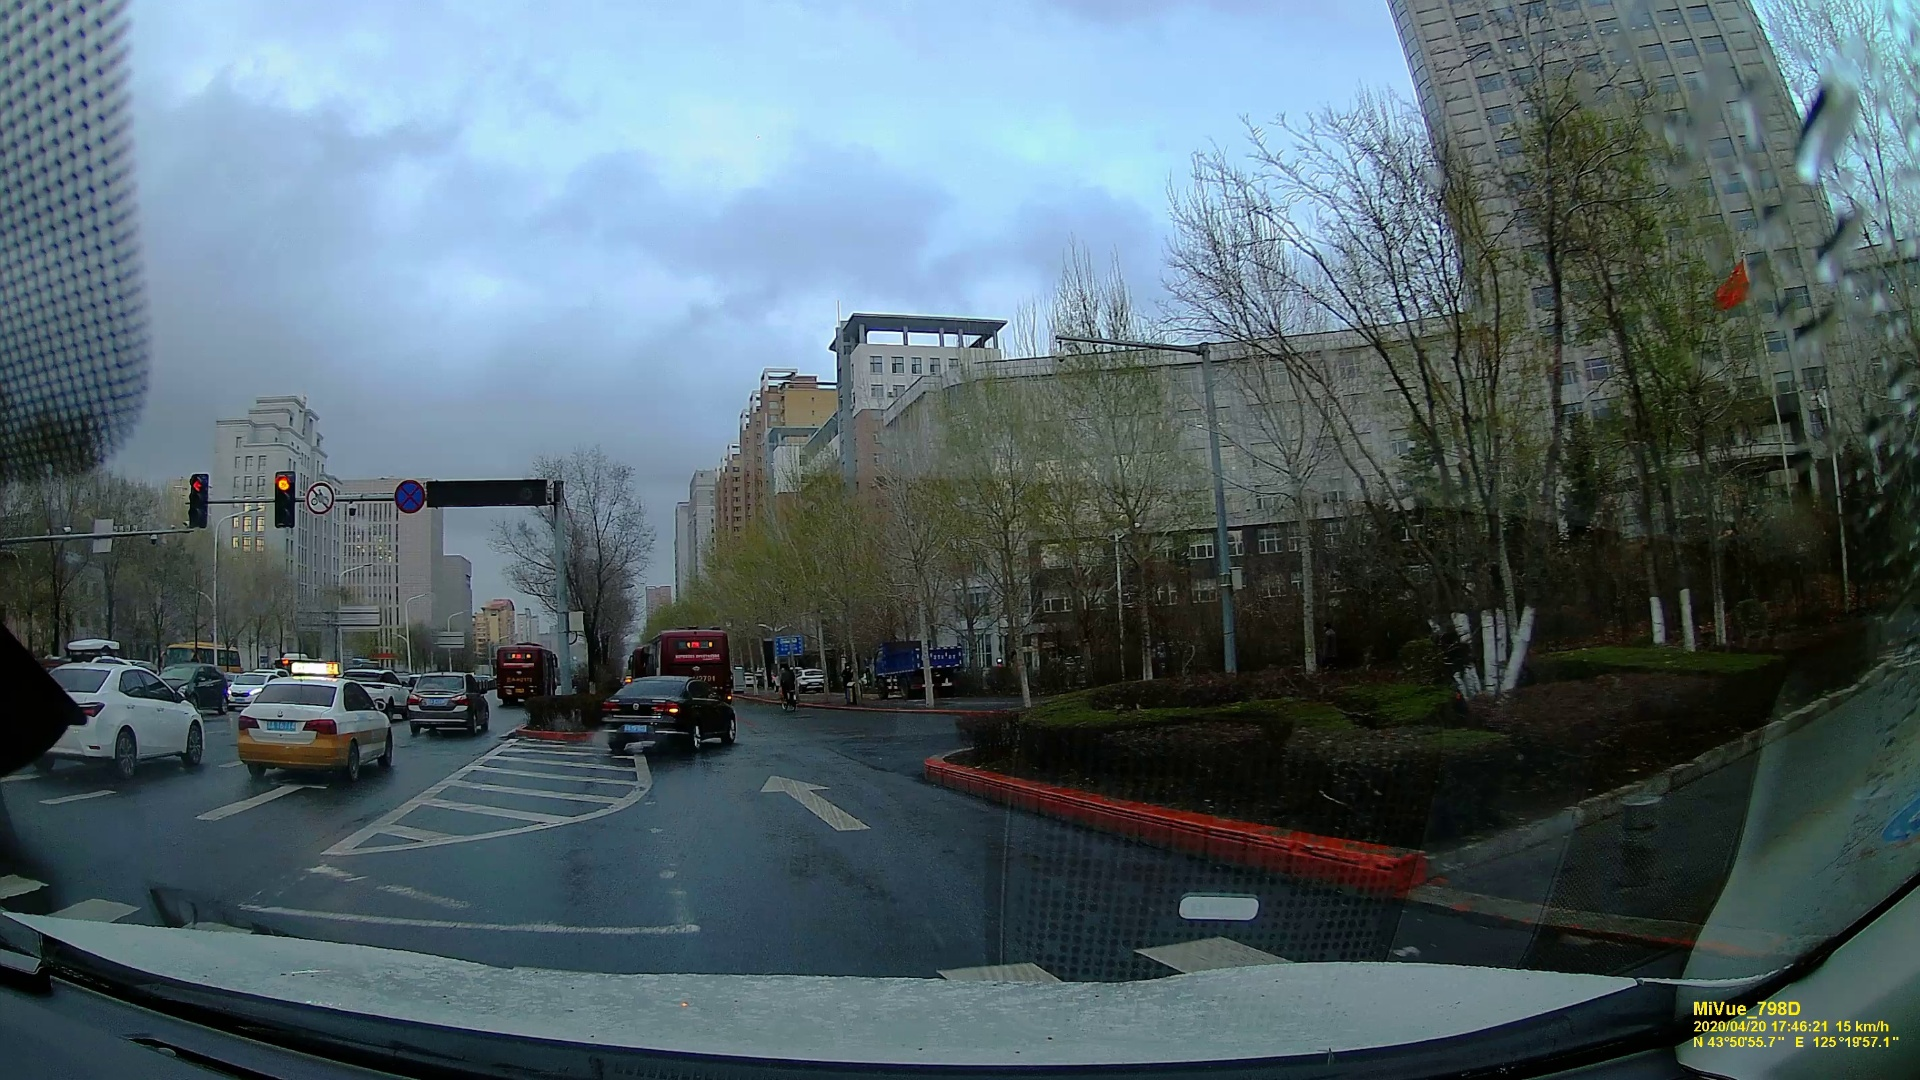bus: (634, 632, 733, 691), (493, 648, 558, 703)
person: (778, 664, 799, 709), (841, 660, 853, 700)
traffic_sign: (186, 475, 209, 524), (391, 477, 421, 513), (274, 468, 288, 526), (304, 482, 330, 509)
truck: (870, 642, 960, 701)
vehicle: (35, 655, 200, 781), (228, 670, 392, 785), (600, 674, 737, 750), (406, 672, 485, 734)
